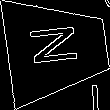N_E: (26, 27, 88, 72)
